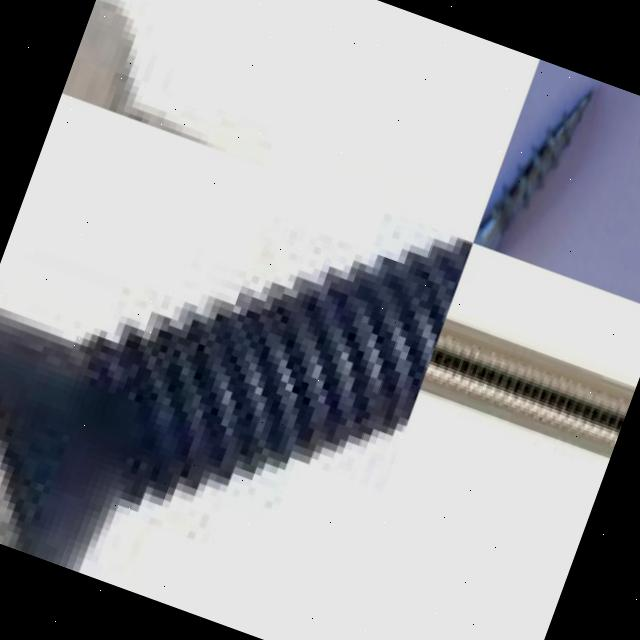Screw: (0, 232, 473, 573), (420, 316, 637, 459), (473, 93, 592, 251)
